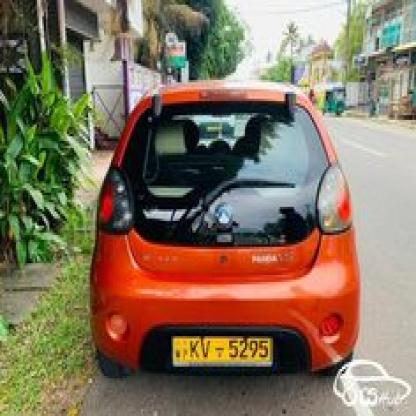car back: (88, 72, 362, 380)
number plate: (172, 334, 271, 366)
